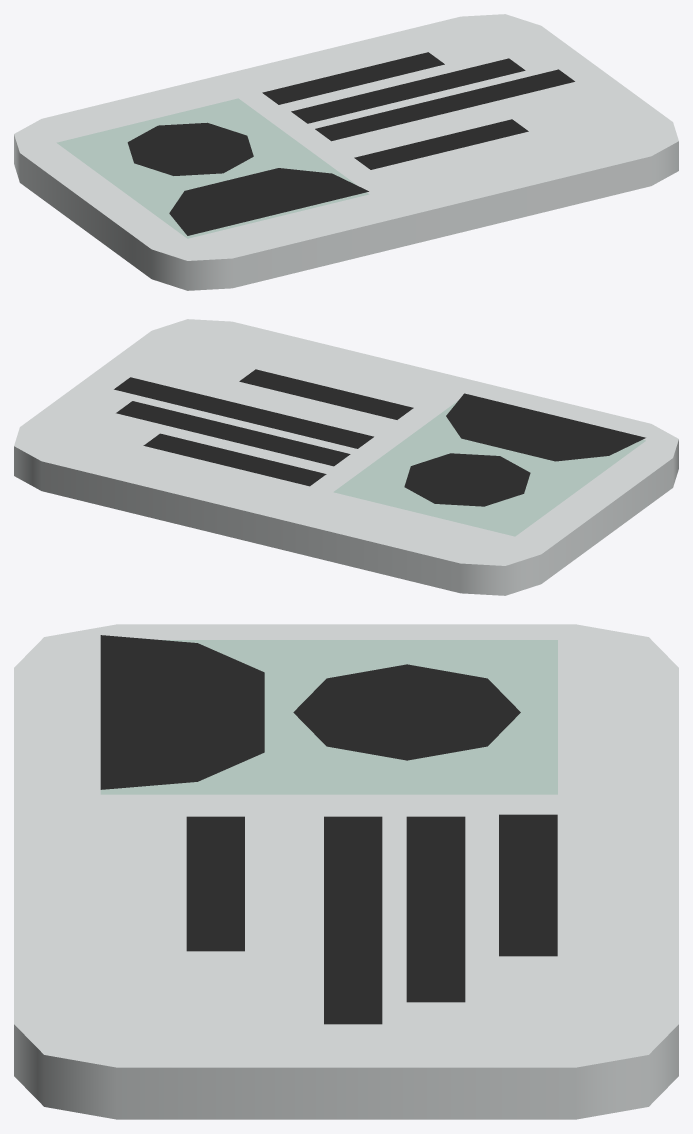
File: michaels id.fbx
3 renders of one model, top to bottom at view 1: azimuth 30°, elevation 25°; view 2: azimuth 150°, elevation 25°; view 3: azimuth 270°, elevation 25°, orthographic. The views are drawn at different scales.
Visible parts, largest first — view 1: michaels id; view 2: michaels id; view 3: michaels id.
Part boxes in pixels (bbox=[...]): michaels id: bbox=[14, 14, 678, 290]; michaels id: bbox=[14, 319, 678, 595]; michaels id: bbox=[14, 624, 678, 1119].
Size of the model in its own units: 0.199 by 0.0142 by 0.1261.
